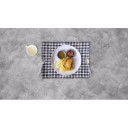briyani: (60, 57, 74, 69)
